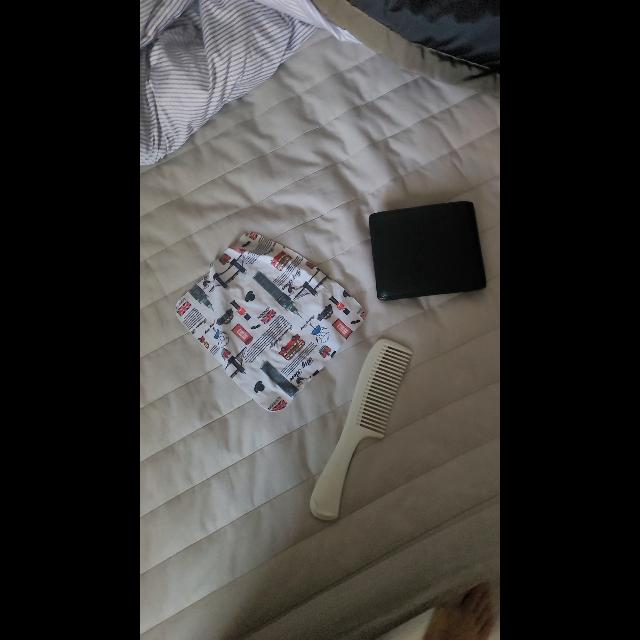COMB: (310, 339, 412, 521)
Glasses cleaning cloth: (175, 232, 365, 413)
WALLET: (369, 201, 486, 301)
